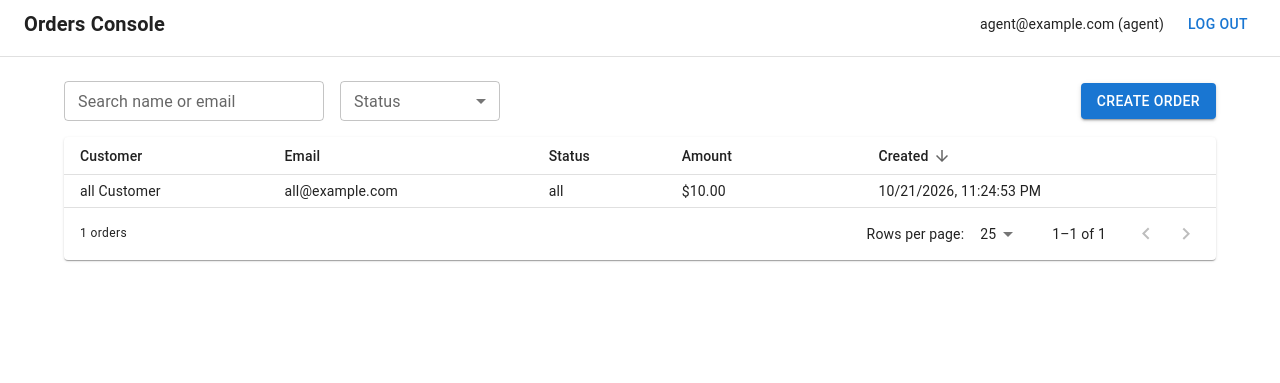
rapid filter changes › never shows stale results from an earlier slower request
Click the dropdown named "Status".
click(420, 101)  # box 340,81 -> 500,121
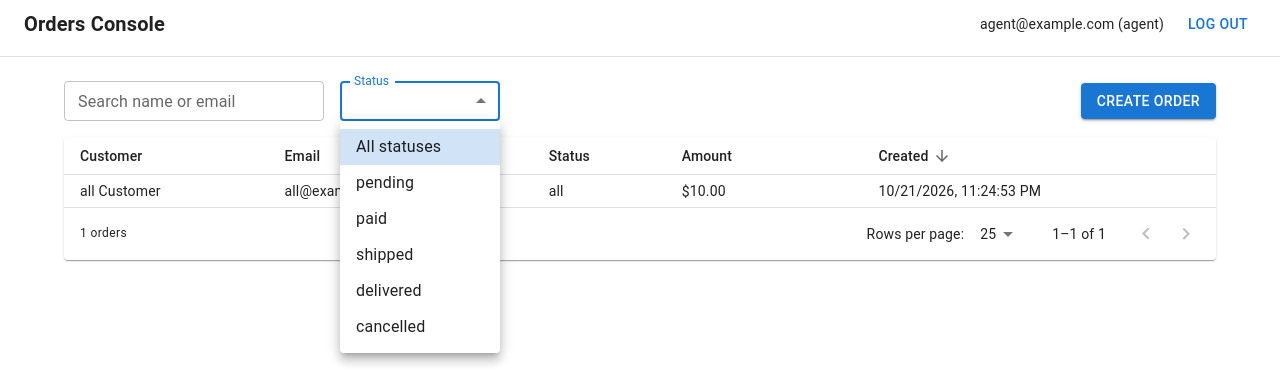
Click the option "pending".
click(385, 182)  # box 356,173 -> 414,192
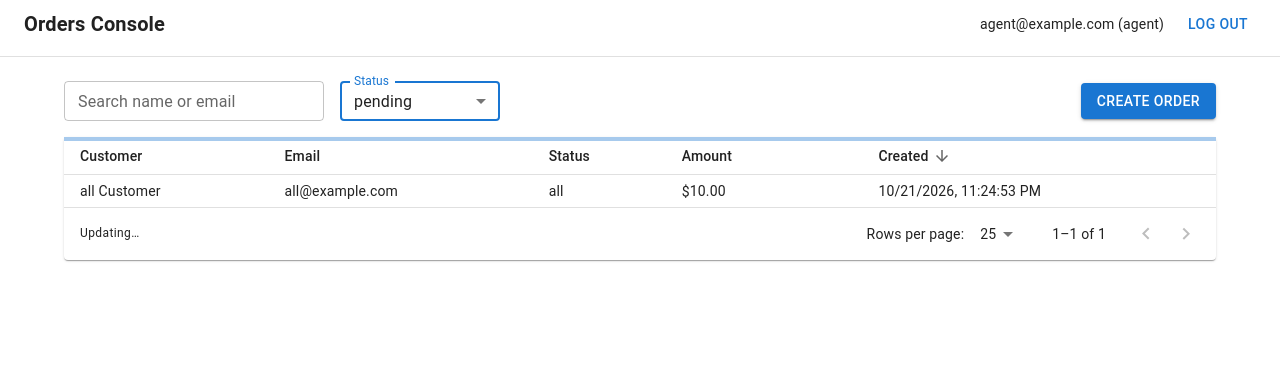
Click the dropdown named "Status".
click(383, 101)  # box 354,92 -> 412,110
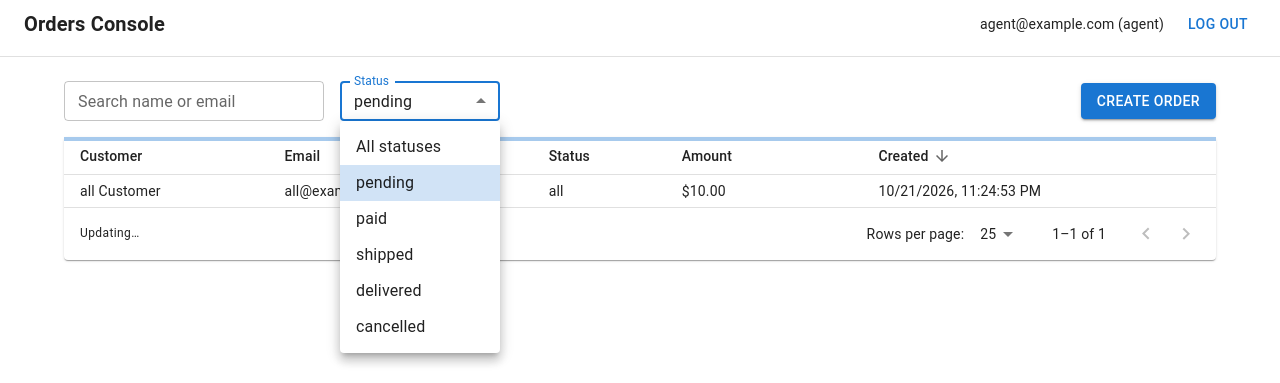
Click the option "paid".
click(372, 218)  # box 356,209 -> 387,228
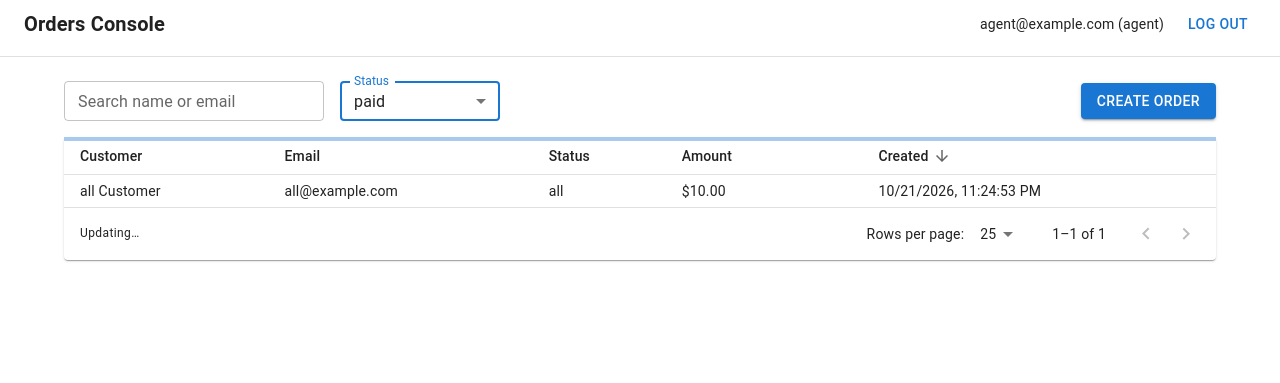
Click the dropdown named "Status".
click(370, 101)  # box 354,92 -> 385,110
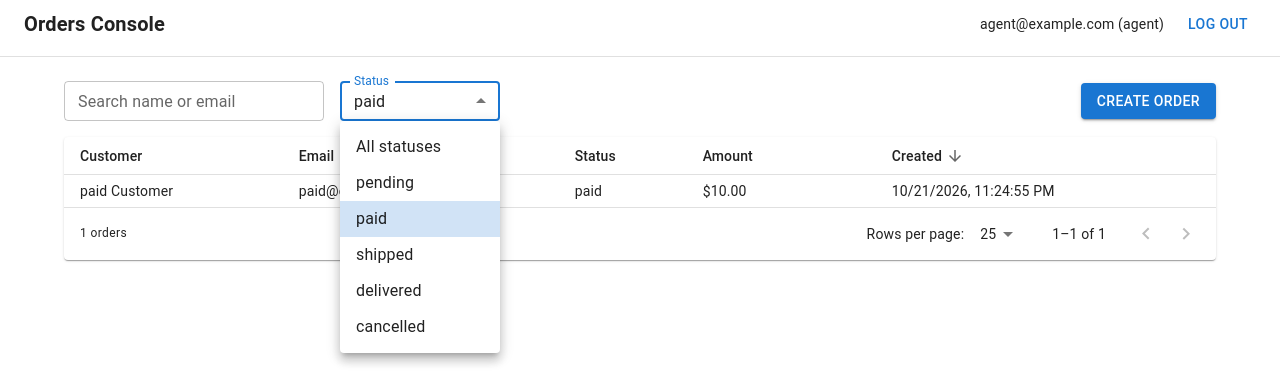
Click the option "shipped".
click(385, 254)  # box 356,245 -> 414,264
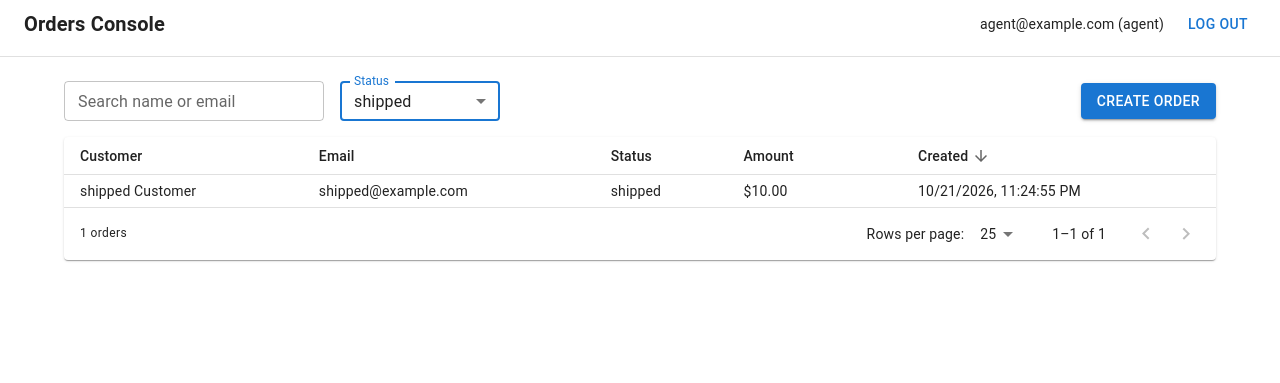
Expected: the text "shipped Customer" is shown, 64,175 -> 303,208
Expected: the text "paid Customer" is gone
